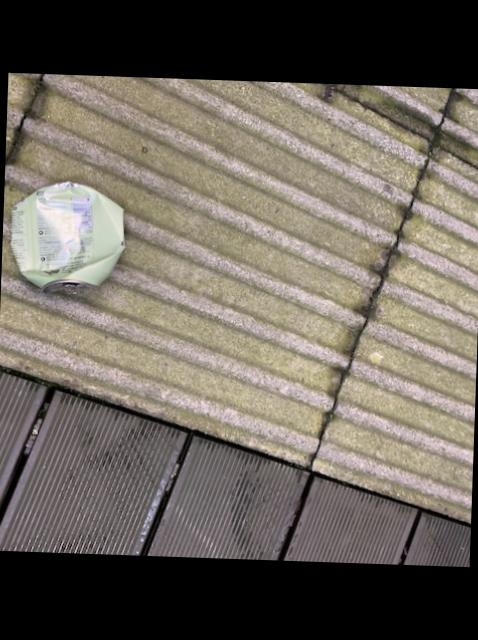metal: (12, 184, 125, 293)
